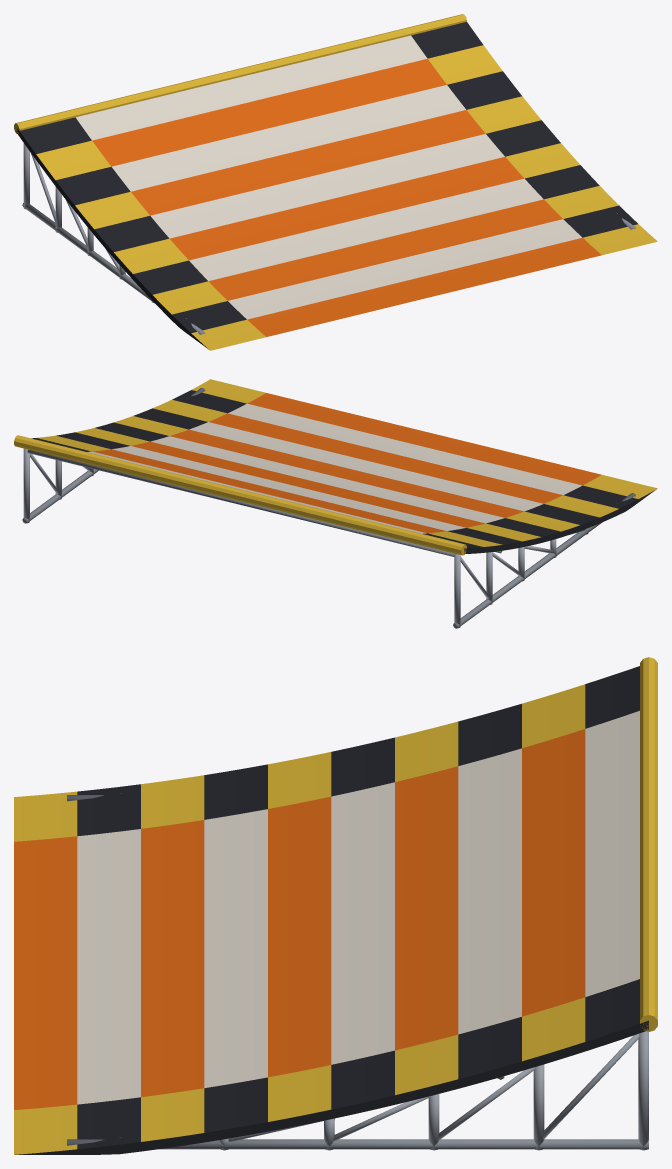
Rendered from ramp.glb.
3 views of the same model, one above another, from view 1: azimuth 30°, elevation 25°; view 2: azimuth 150°, elevation 25°; view 3: azimuth 270°, elevation 25° (orthographic). The views are drawn at different scales.
Parts seen in each view (by area): view 1: ramp_mesh; view 2: ramp_mesh; view 3: ramp_mesh.
Part boxes in pixels (x1=…): ramp_mesh: x1=14, y1=14, x2=657, y2=350; ramp_mesh: x1=14, y1=379, x2=657, y2=628; ramp_mesh: x1=14, y1=657, x2=657, y2=1154.
Size of the model in its own units: 8 by 1.47 by 6.09.
